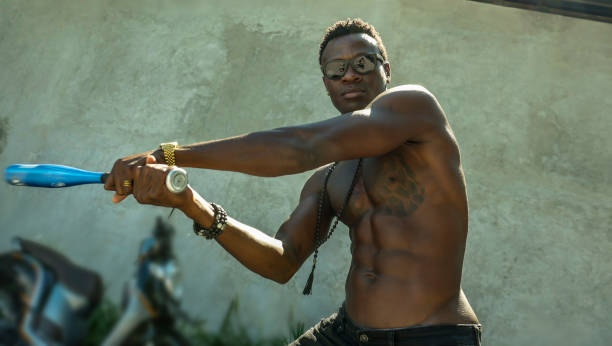bita: (1, 160, 194, 192)
